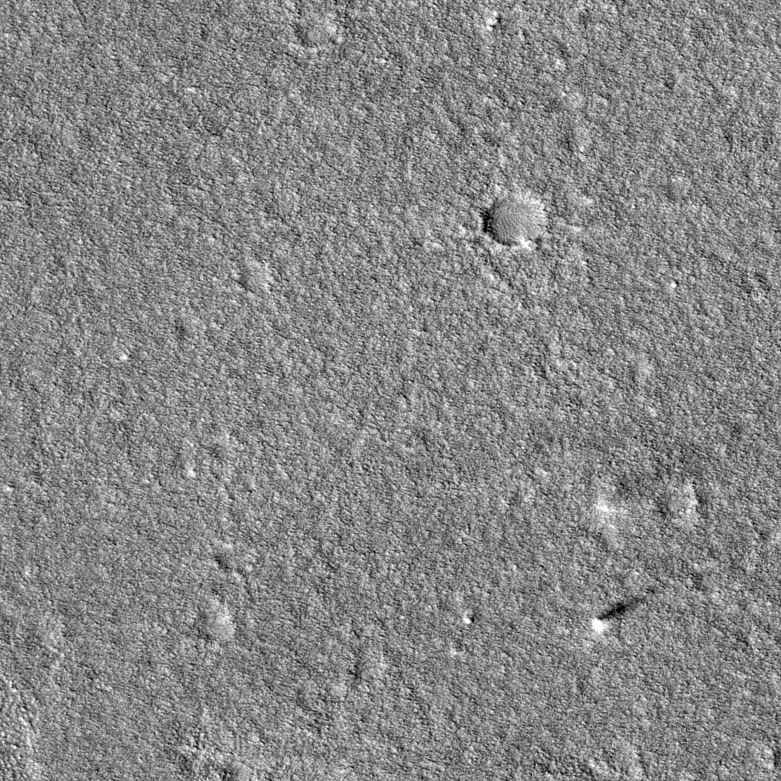dust_devil: (589, 446, 711, 521), (590, 593, 648, 635)
